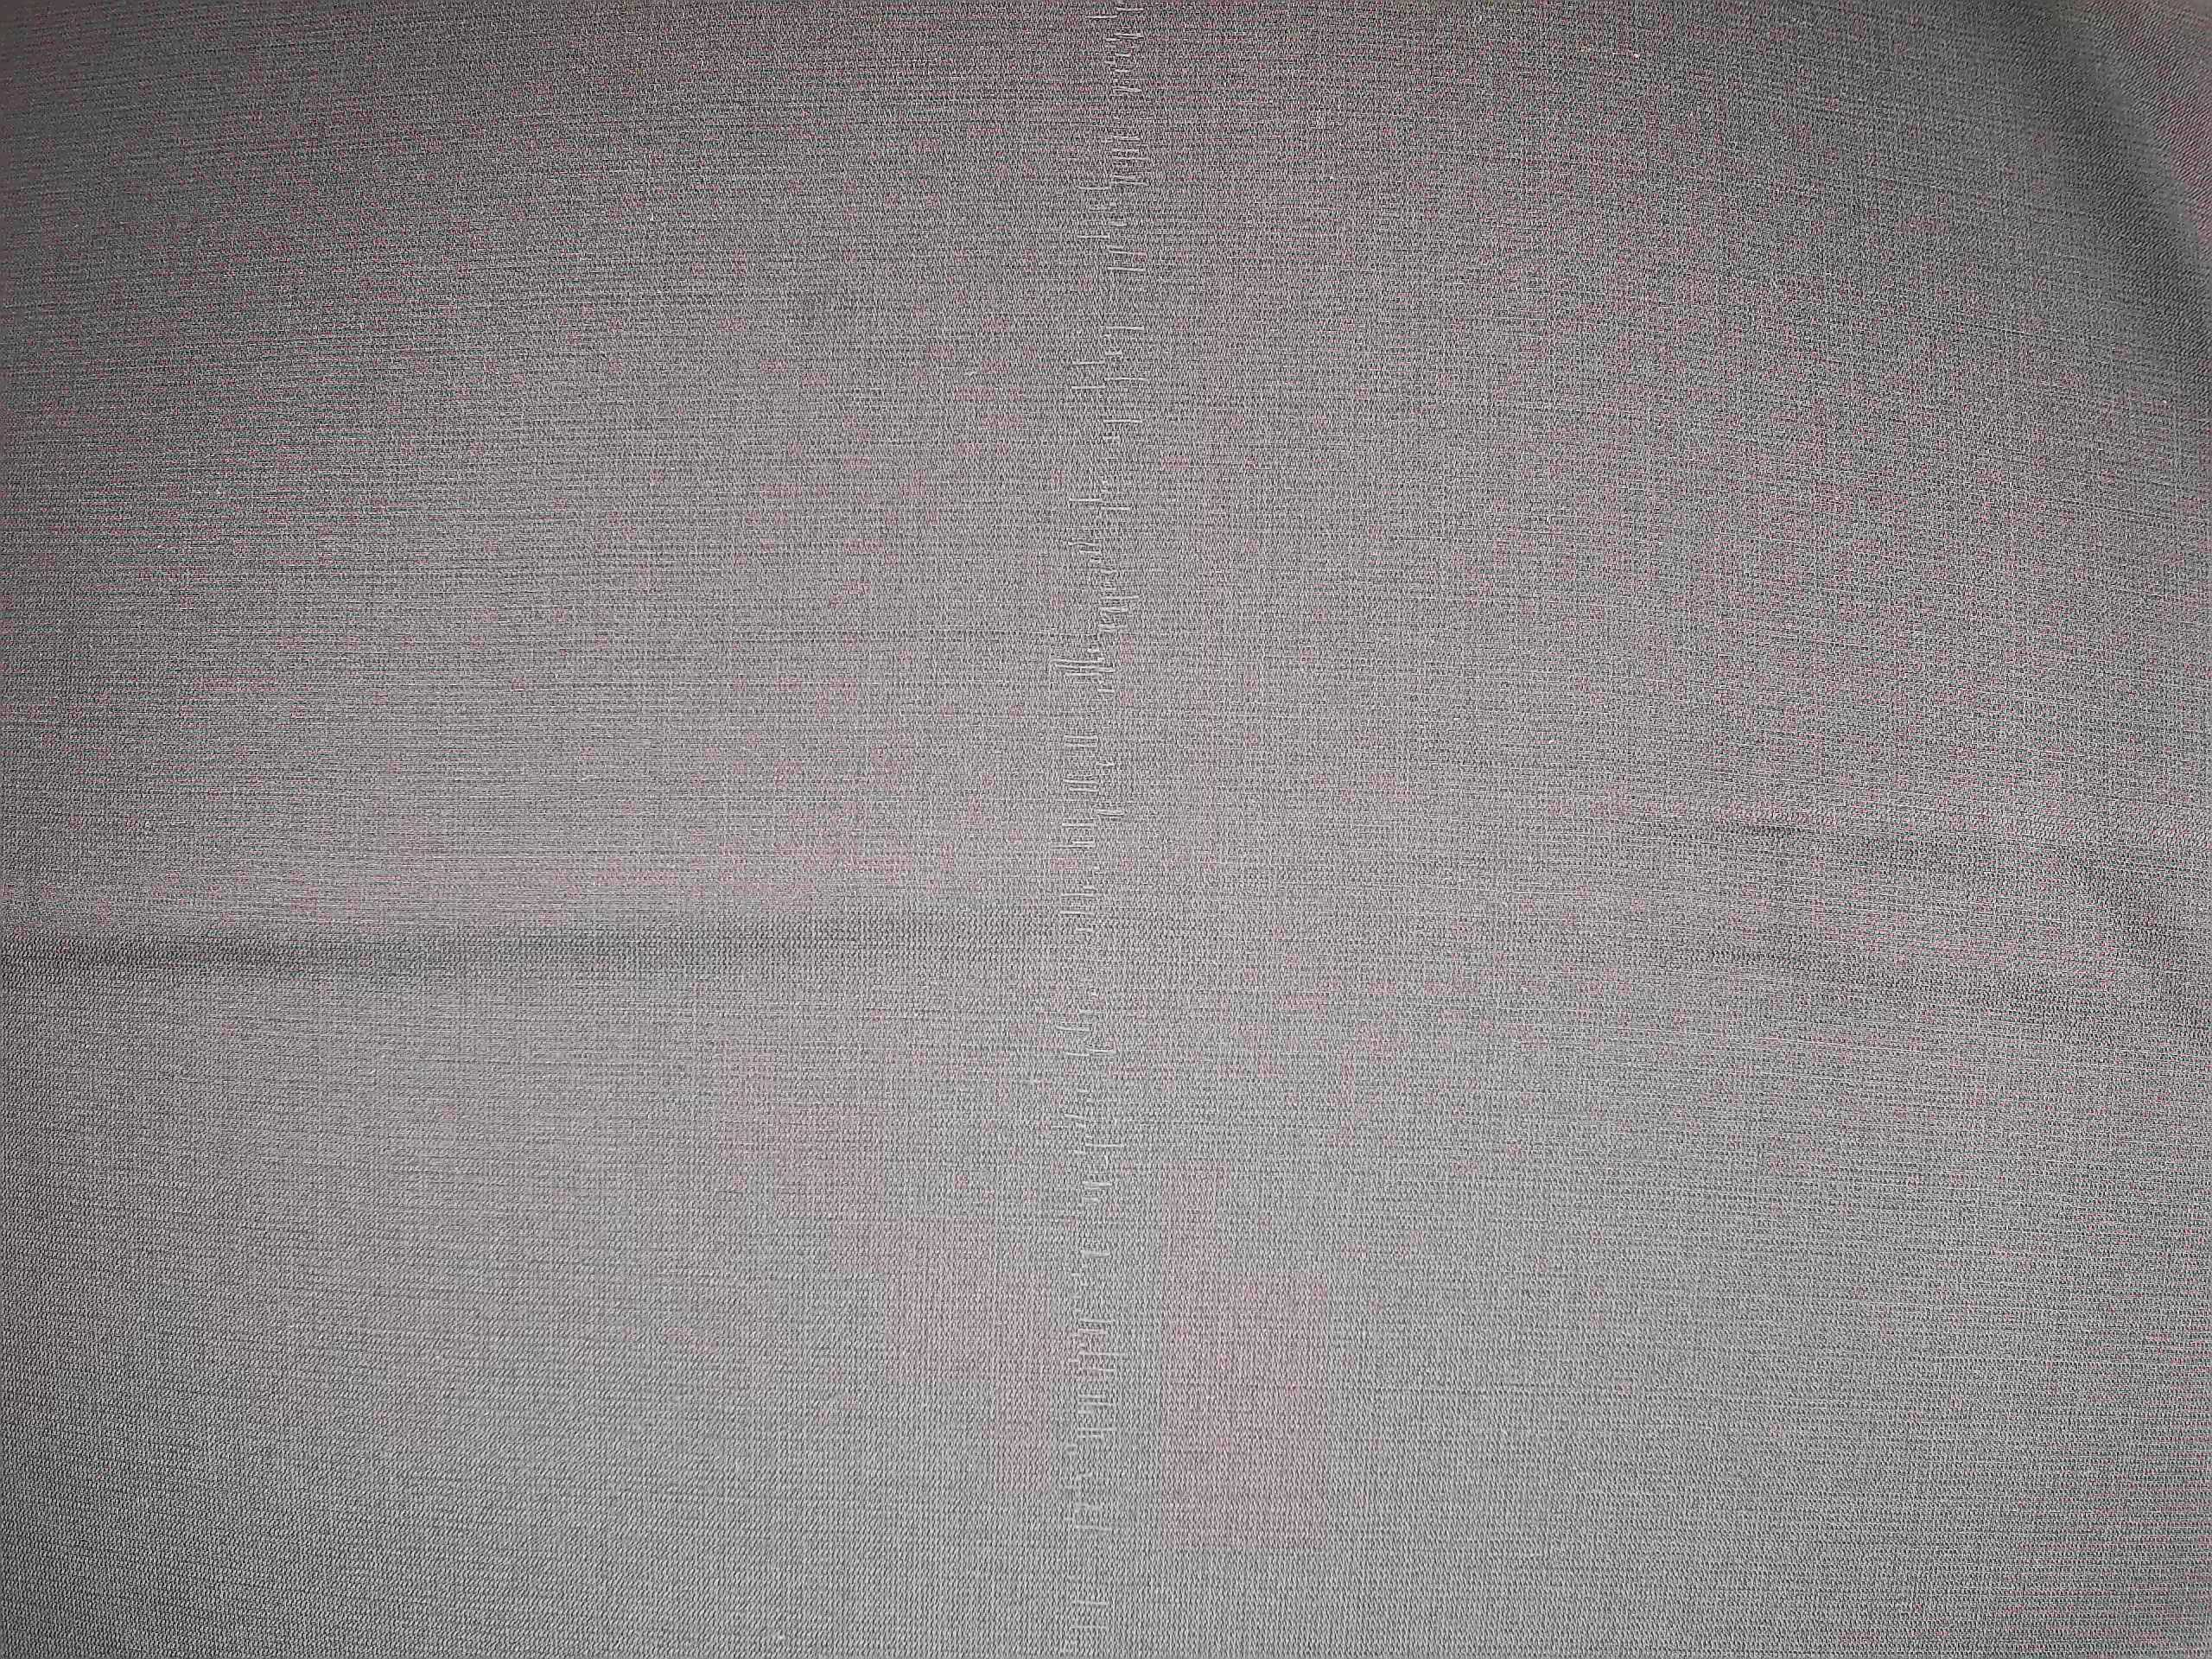jumps: (1047, 5, 1156, 1657)
